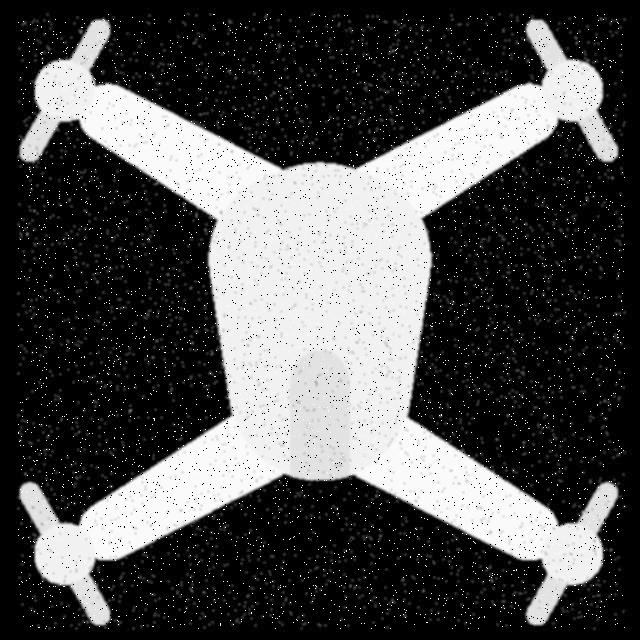drone: (19, 15, 626, 630)
